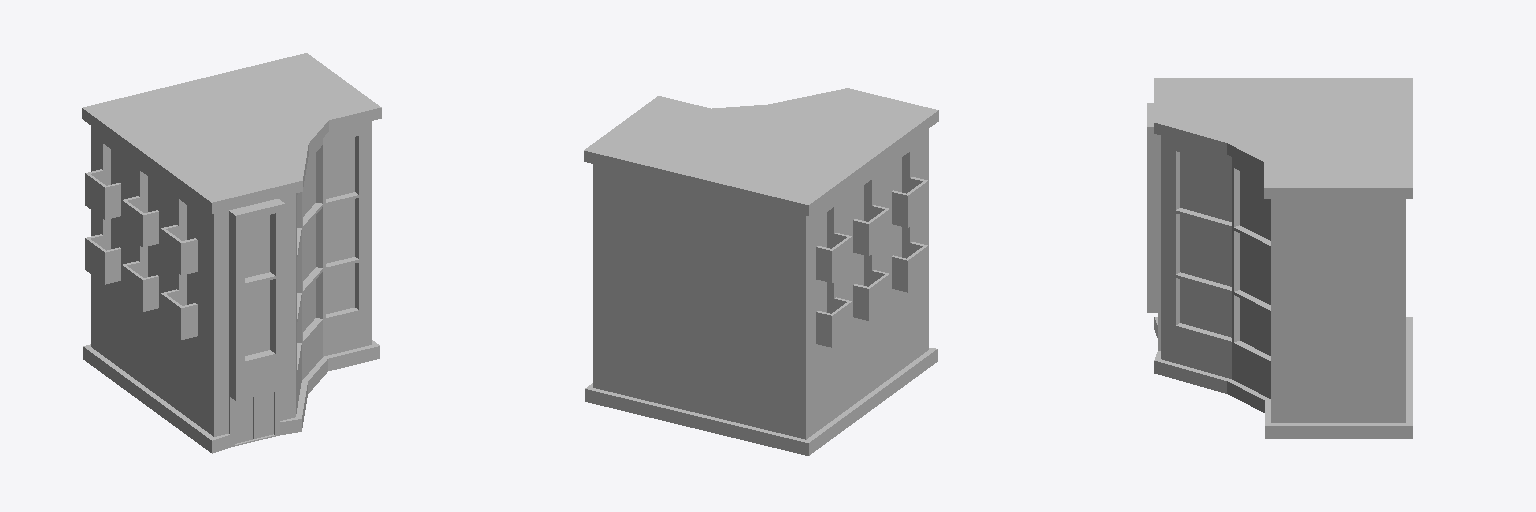
The model's file is predio1.OBJ.
3 renders of one model, left to right at view 1: azimuth 30°, elevation 25°; view 2: azimuth 150°, elevation 25°; view 3: azimuth 270°, elevation 25°, orthographic.
Parts seen in each view (by area): view 1: Group55984, Group30270, Group7727, Group44600, Group39612, Group43516, Group51473; view 2: Group55984, Group30270, Group39612, Group43516, Group44600; view 3: Group55984, Group30270, Group44600, Group43516, Group51473, Group7727.
Boxes of the visible parts, x1=… form: Group55984: x1=91, y1=121, x2=371, y2=436; Group30270: x1=82, y1=53, x2=381, y2=213; Group7727: x1=229, y1=199, x2=284, y2=400; Group44600: x1=111, y1=137, x2=354, y2=443; Group39612: x1=85, y1=169, x2=197, y2=339; Group43516: x1=83, y1=340, x2=379, y2=453; Group51473: x1=229, y1=144, x2=358, y2=447; Group55984: x1=593, y1=129, x2=928, y2=439; Group30270: x1=584, y1=88, x2=938, y2=215; Group39612: x1=816, y1=177, x2=927, y2=347; Group43516: x1=585, y1=348, x2=937, y2=455; Group44600: x1=818, y1=158, x2=901, y2=312; Group55984: x1=1161, y1=136, x2=1405, y2=422; Group30270: x1=1154, y1=78, x2=1412, y2=198; Group44600: x1=1180, y1=152, x2=1270, y2=355; Group43516: x1=1154, y1=317, x2=1412, y2=438; Group51473: x1=1158, y1=167, x2=1270, y2=350; Group7727: x1=1147, y1=103, x2=1160, y2=312.
Bounding box in the file's own units: 0.5138 × 0.525 × 0.505.